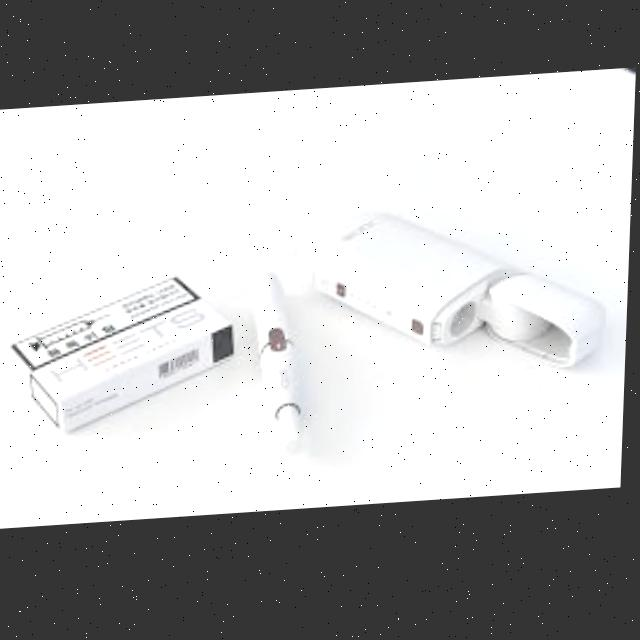vape: (249, 276, 313, 458)
